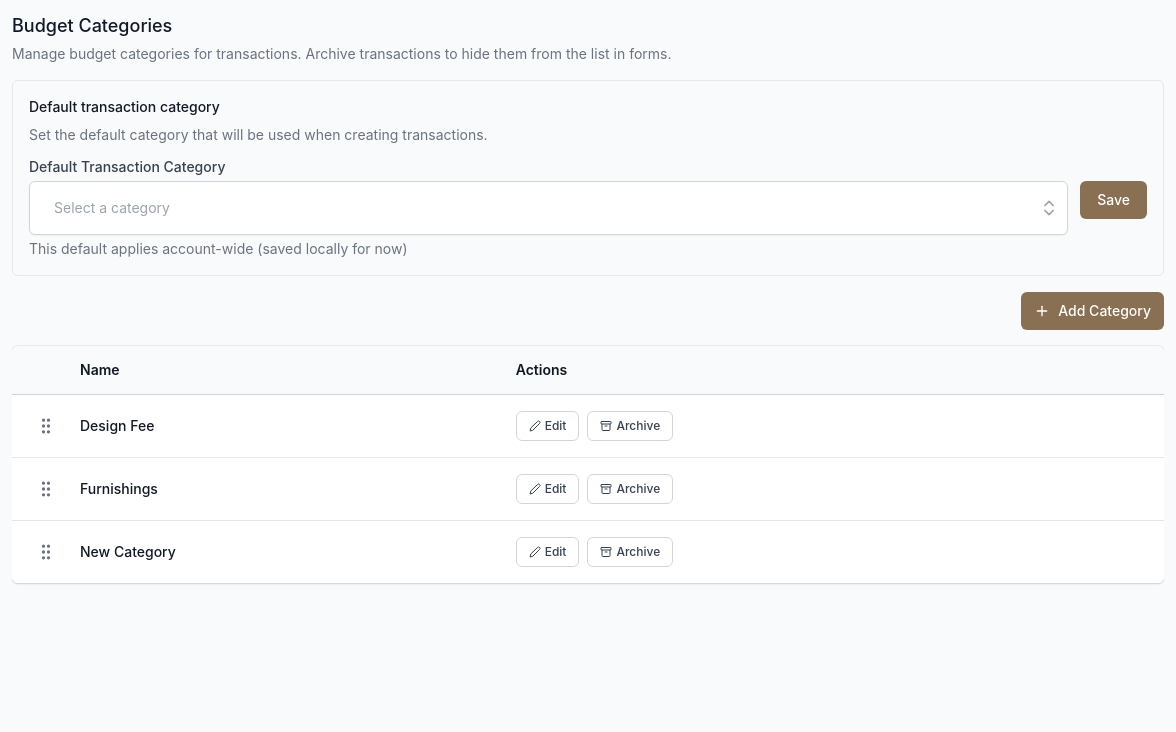
Test case: BudgetCategoriesManager › should display success messages
Click the button "Add Category" at x=1093, y=311, box [1021,292,1164,330]
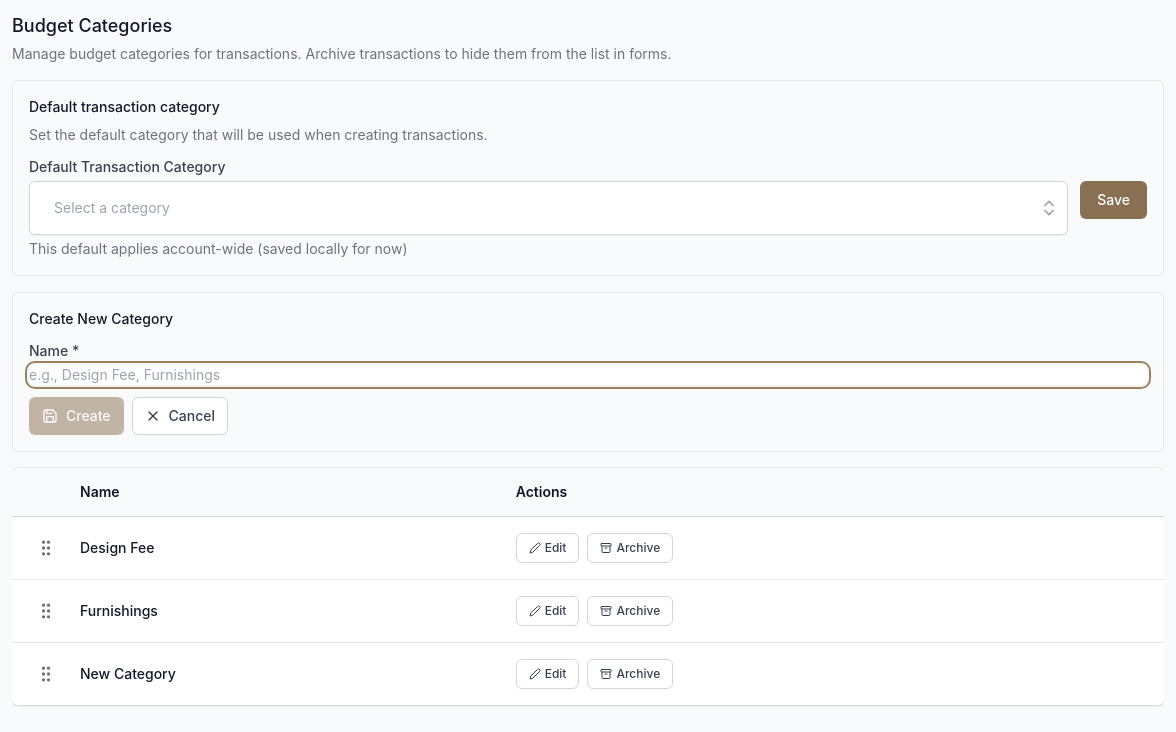
Now the field labelled "Name *" is shown
Type "New Category" into the field labelled "Name *" at x=588, y=375, box [29,365,1147,385]
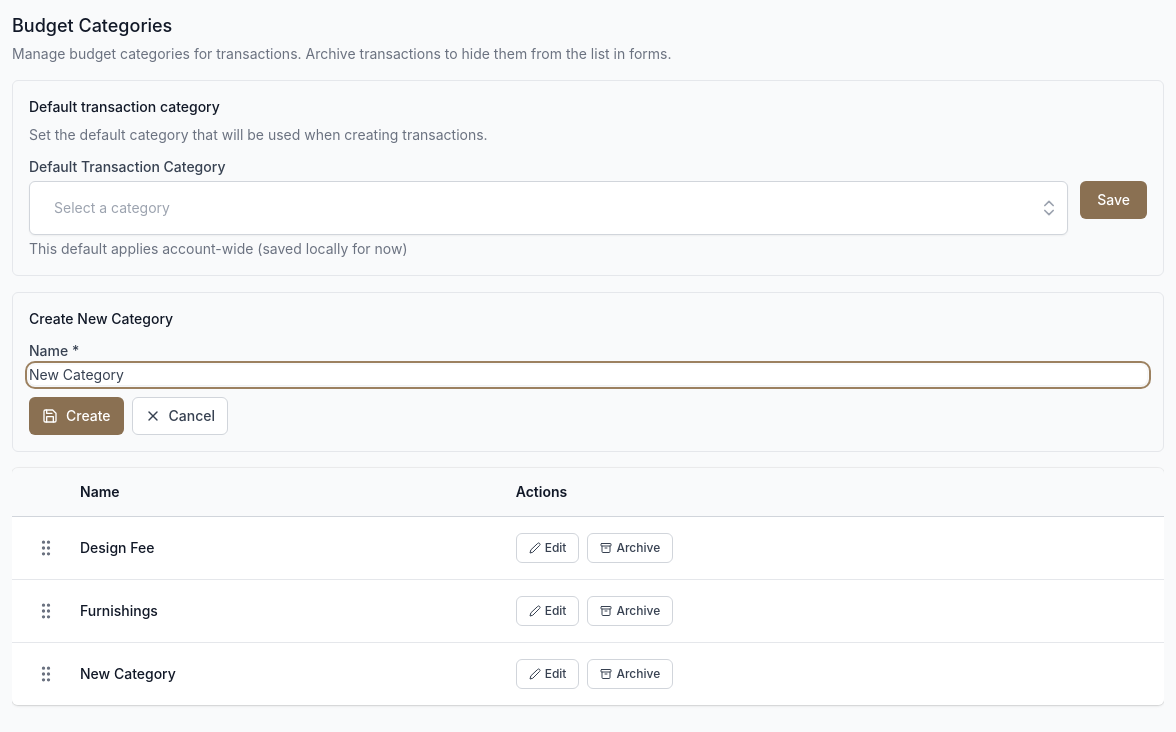
Click the button "Create" at x=76, y=416, box [29,397,124,435]
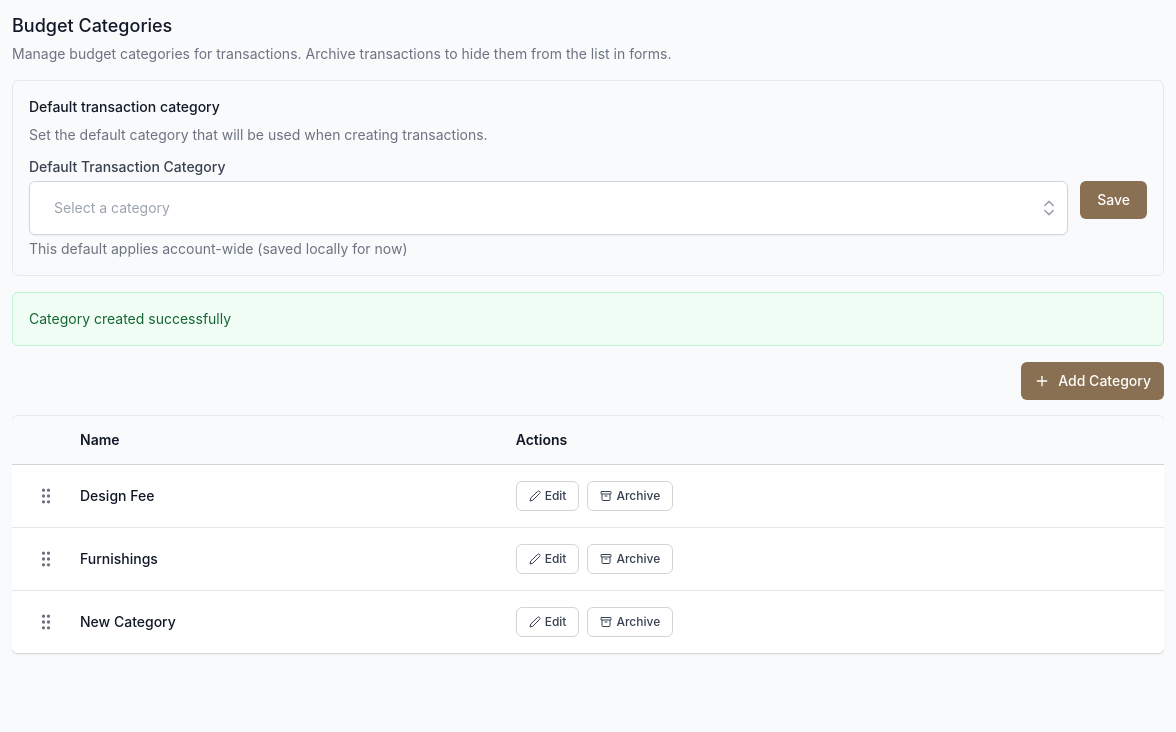
Now the text "Category created successfully" is shown, box [29,310,231,327]
